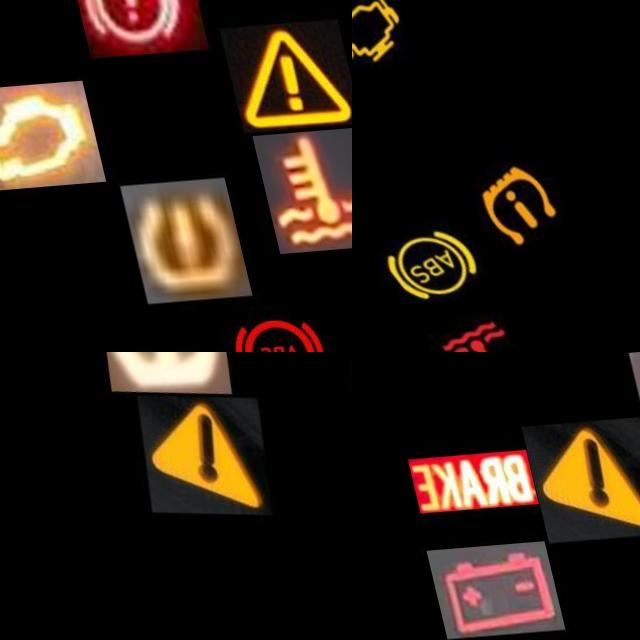Central Warning lamp: (107, 389, 261, 525), (507, 421, 640, 545), (209, 26, 346, 139)
Engine cooling system: (236, 134, 352, 259)
